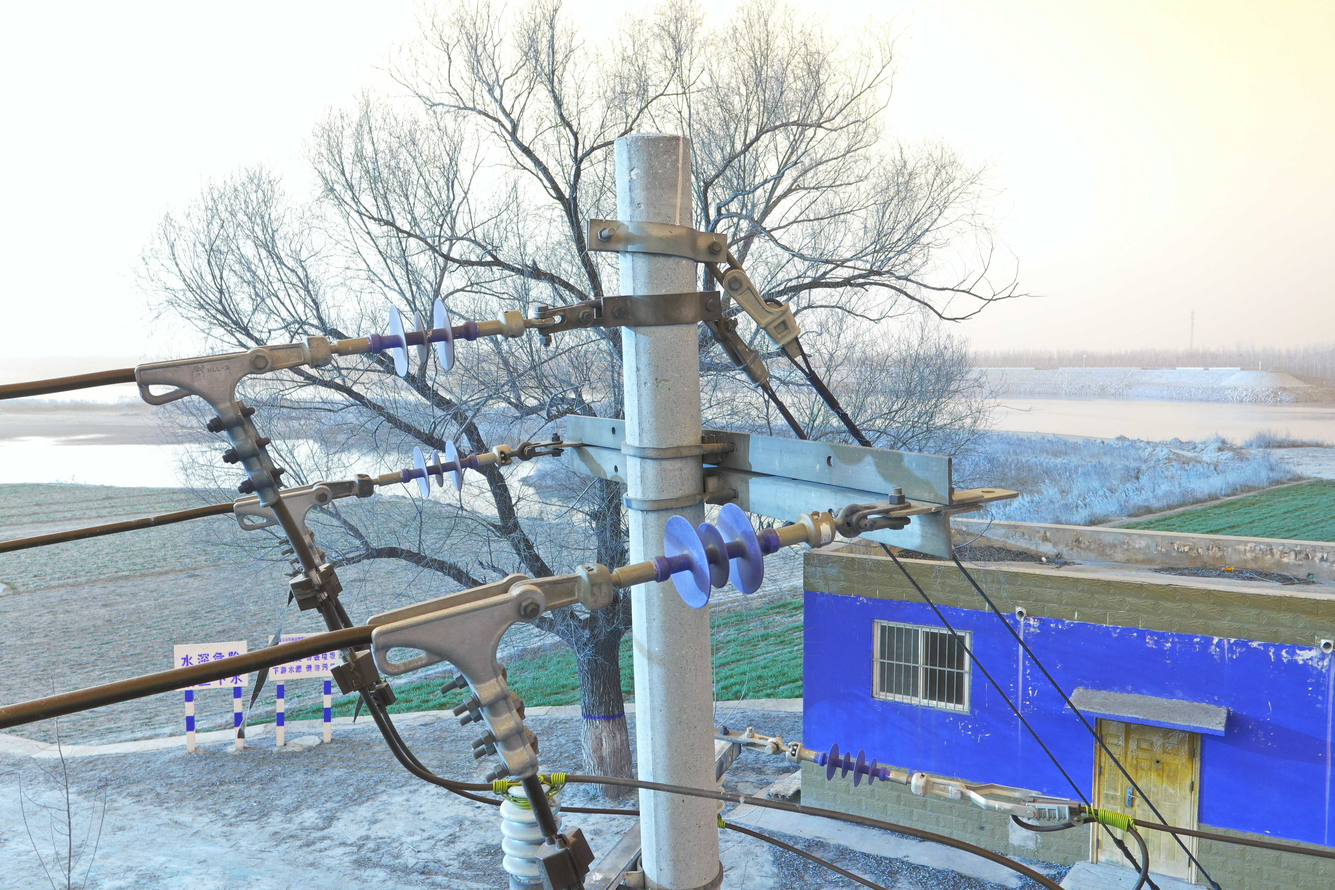severe_soiling_no_discharge_whole: (499, 776, 563, 890)
